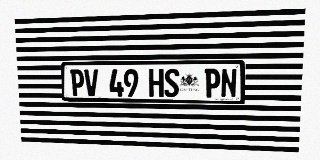4: (109, 69, 124, 97)
9: (124, 69, 138, 97)
H: (149, 69, 164, 97)
N: (221, 68, 237, 98)
P: (204, 68, 220, 98), (70, 69, 85, 96)
S: (164, 69, 179, 97)
V: (84, 69, 99, 96)
